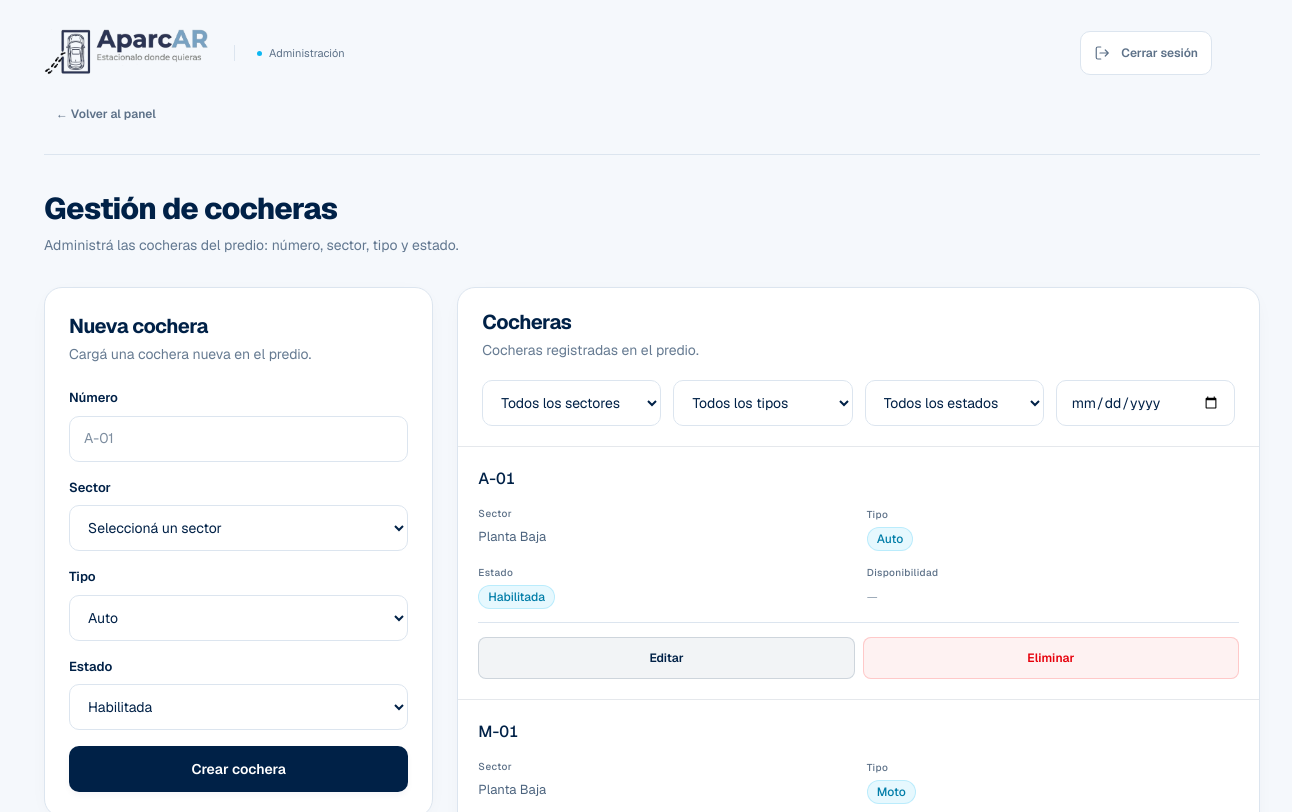
Scenario: CocherasManagement › combina tipo y estado sin sector y recupera todas las cocheras al limpiar filtros
Expected: the text "A-01" is shown, [478,467,1239,491]
Select "Deshabilitada" in the 3rd dropdown showing "Todos los estados" at (954, 403), box [865,380,1044,426]
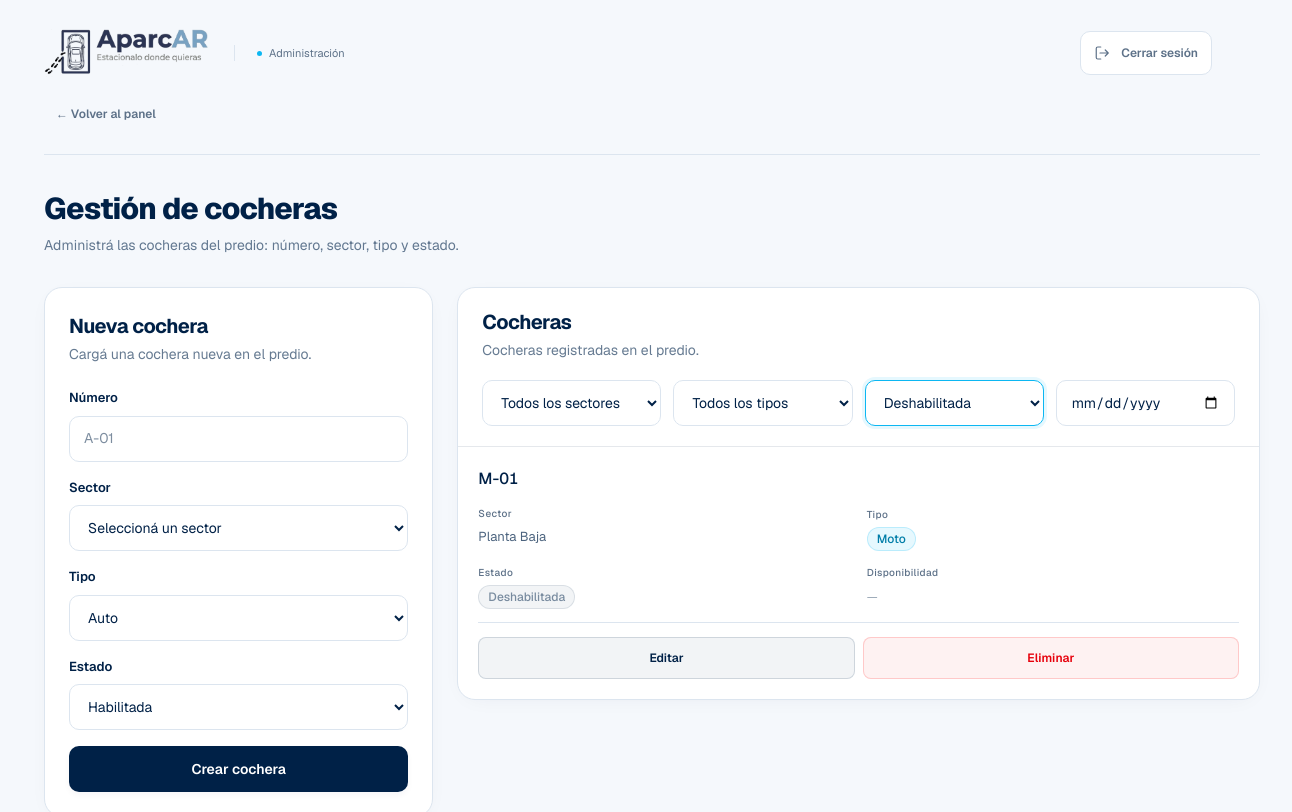
Select "Moto" in the 2nd dropdown showing "Todos los tipos" at (763, 403), box [674,380,853,426]
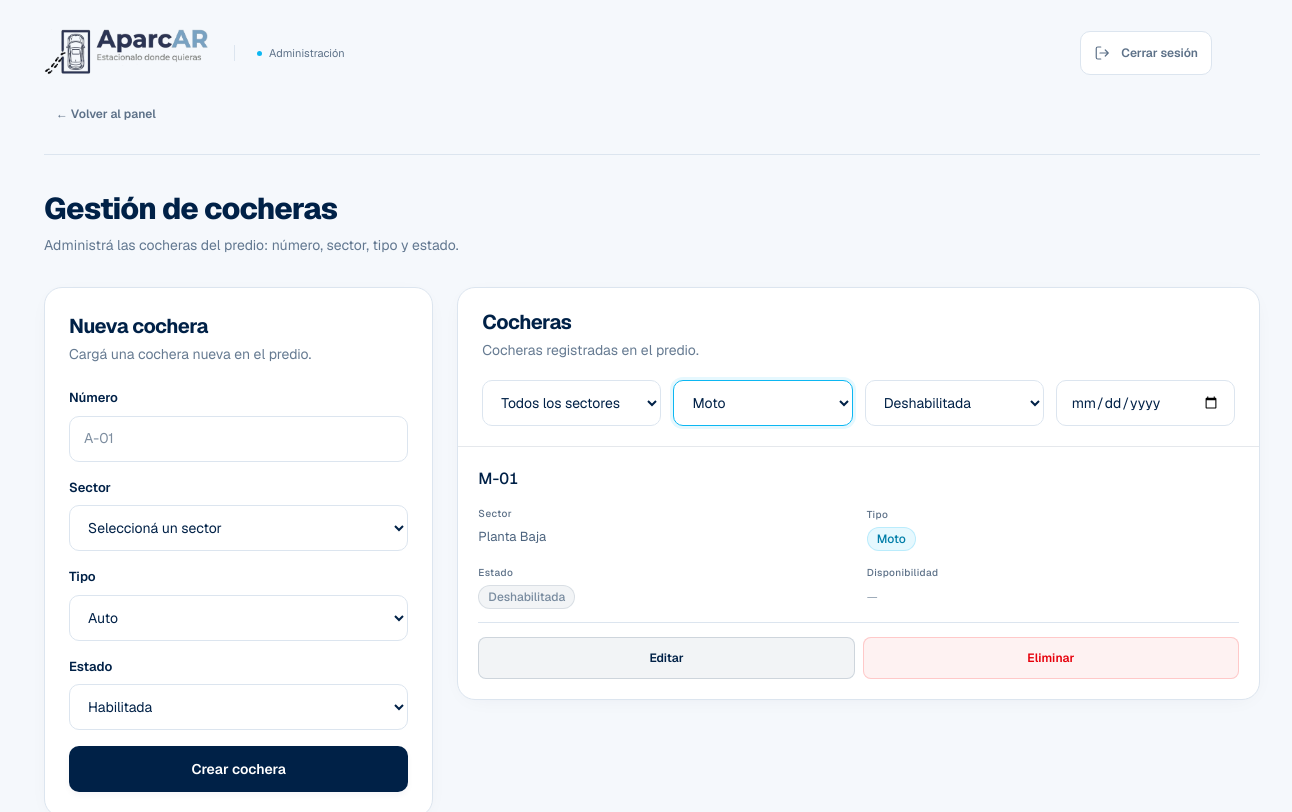
Select "Todos los tipos" in the 2nd dropdown showing "Todos los tipos" at (763, 403), box [674,380,853,426]
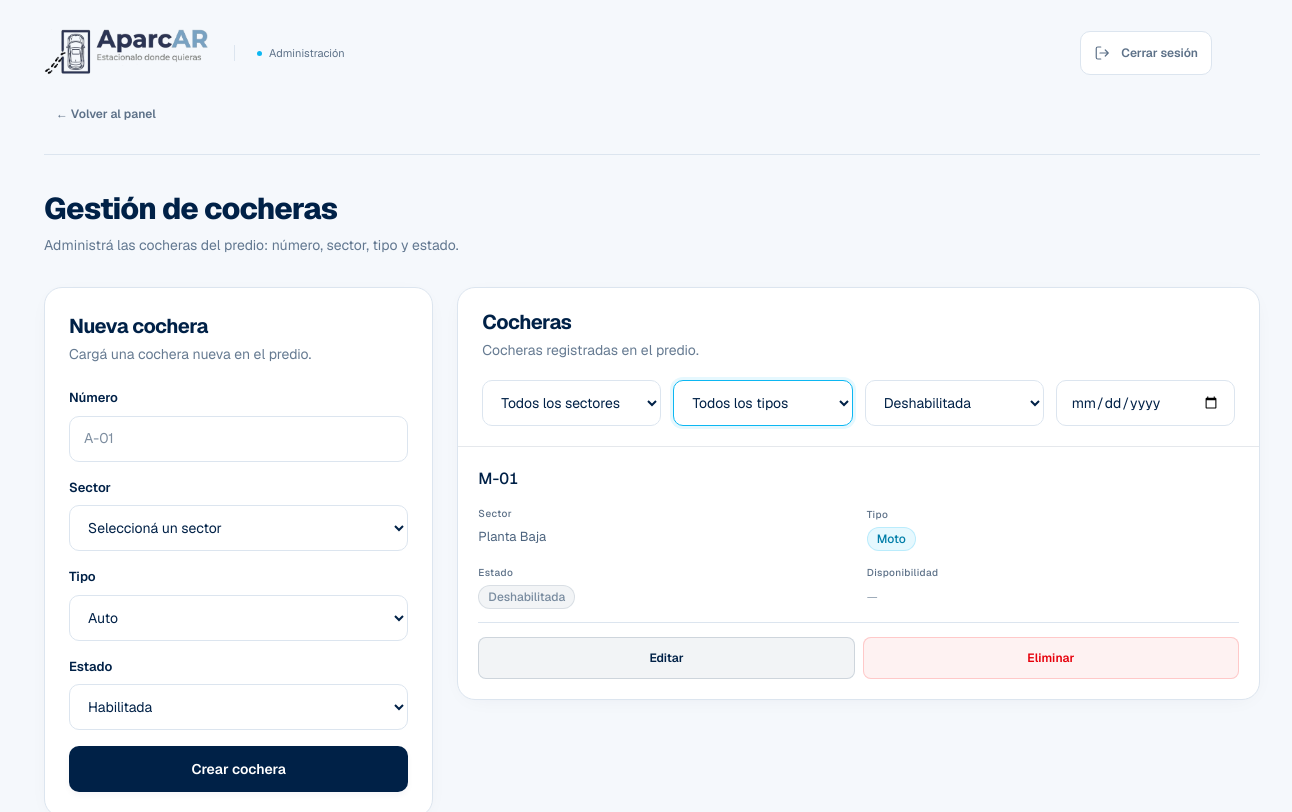
Select "Todos los estados" in the 3rd dropdown showing "Todos los estados" at (954, 403), box [865,380,1044,426]
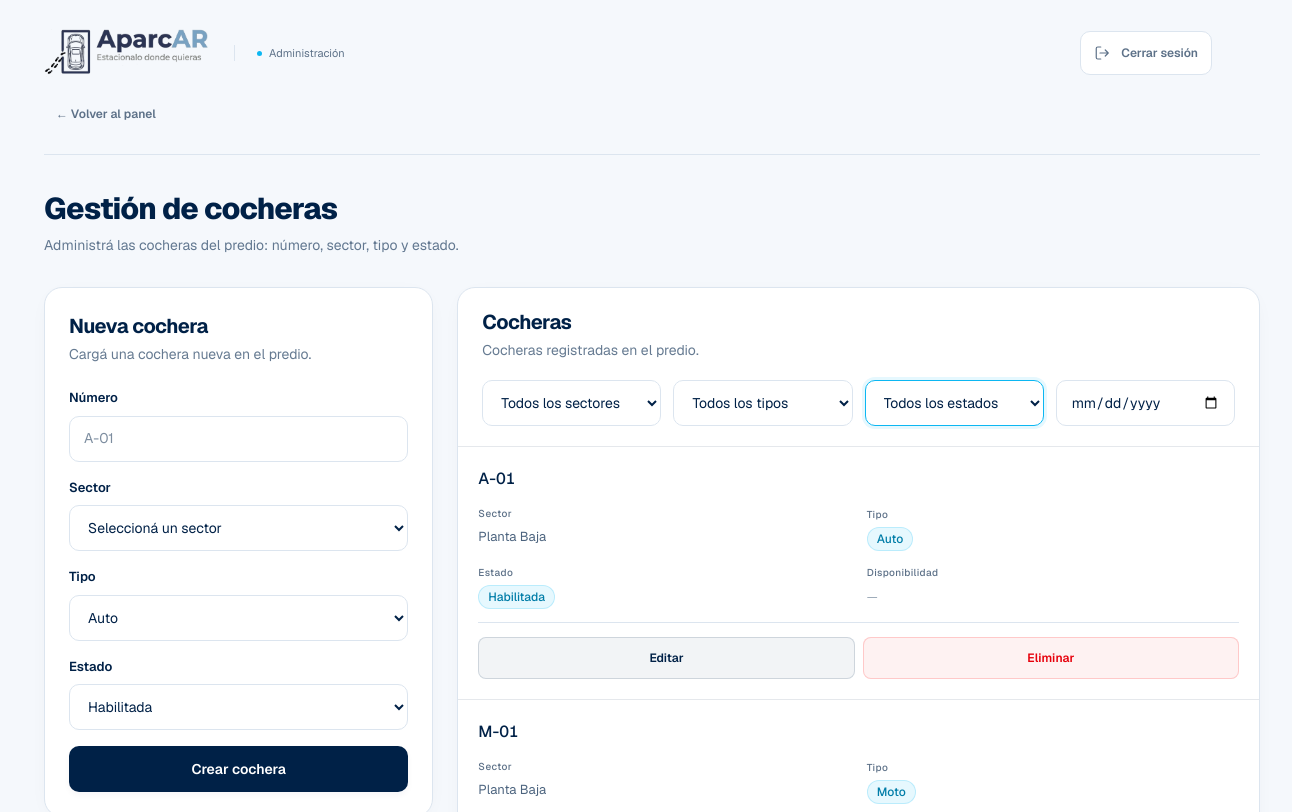
Expected: the text "M-01" is shown, [478,720,1239,744]
Expected: the text "A-01" is shown, [478,467,1239,491]
